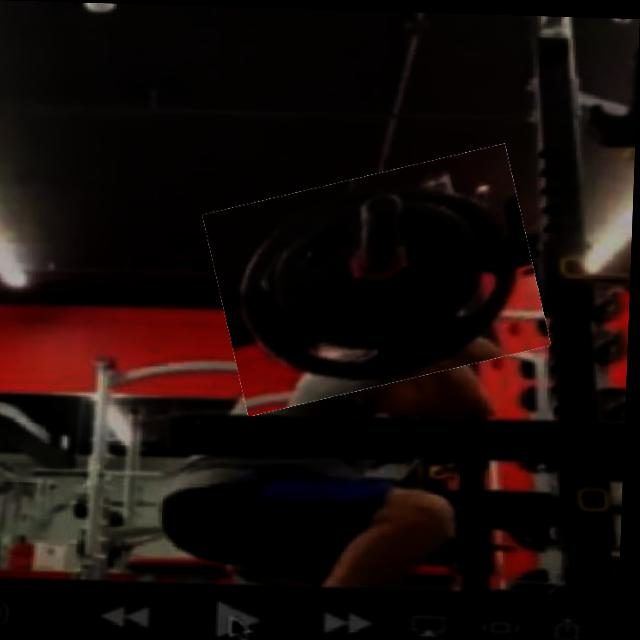barbell: (211, 153, 549, 404)
